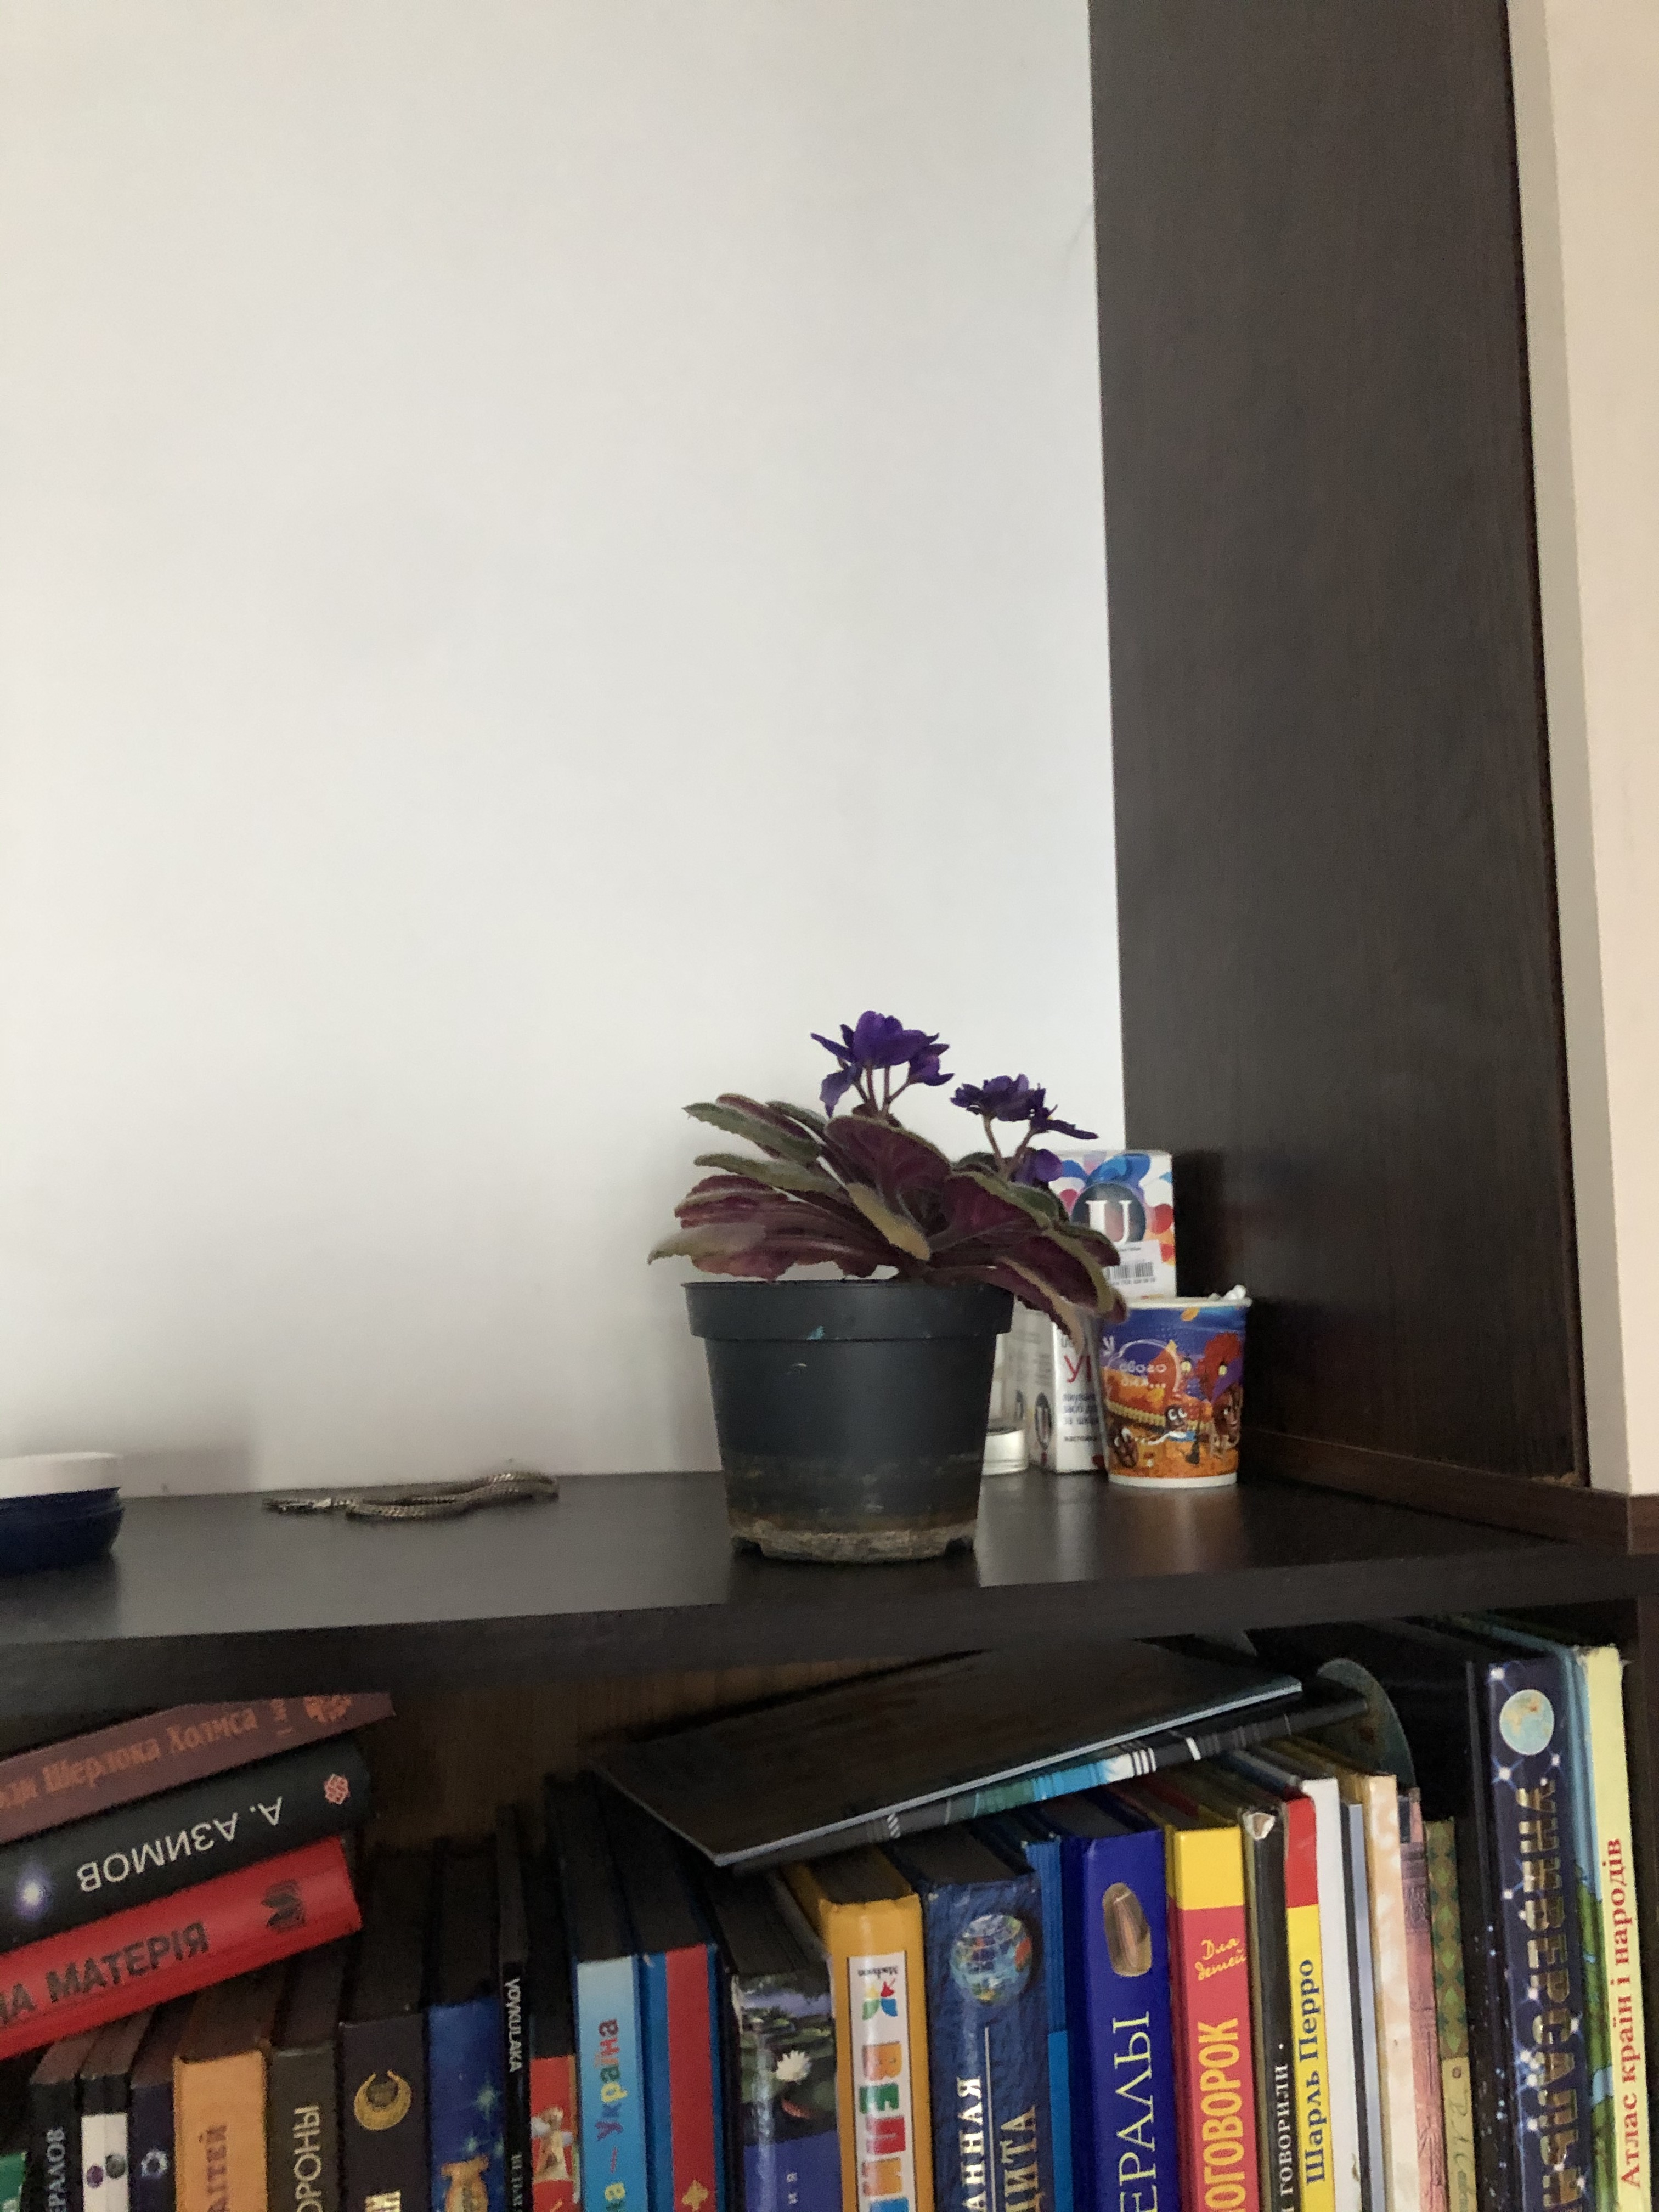ignore: (648, 972, 1122, 1332)
